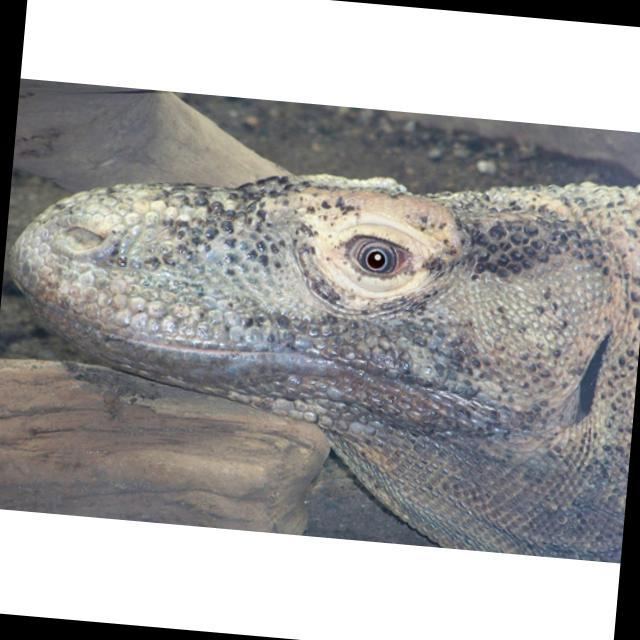KomodoDragon: (0, 126, 640, 558)
